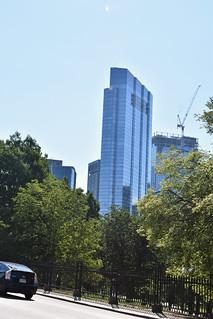building: (95, 64, 153, 232)
